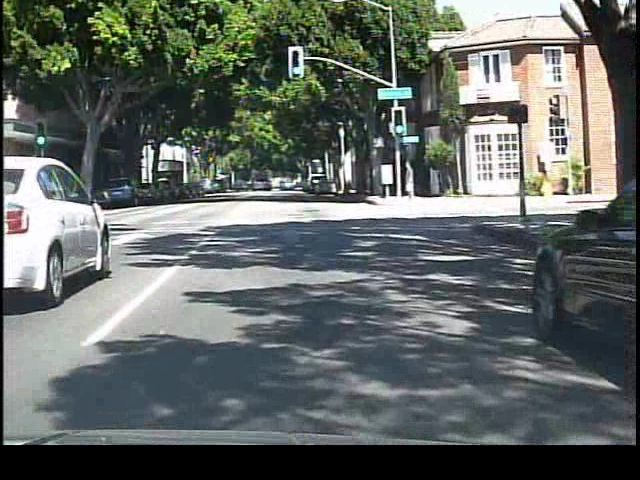person: (403, 157, 423, 206)
